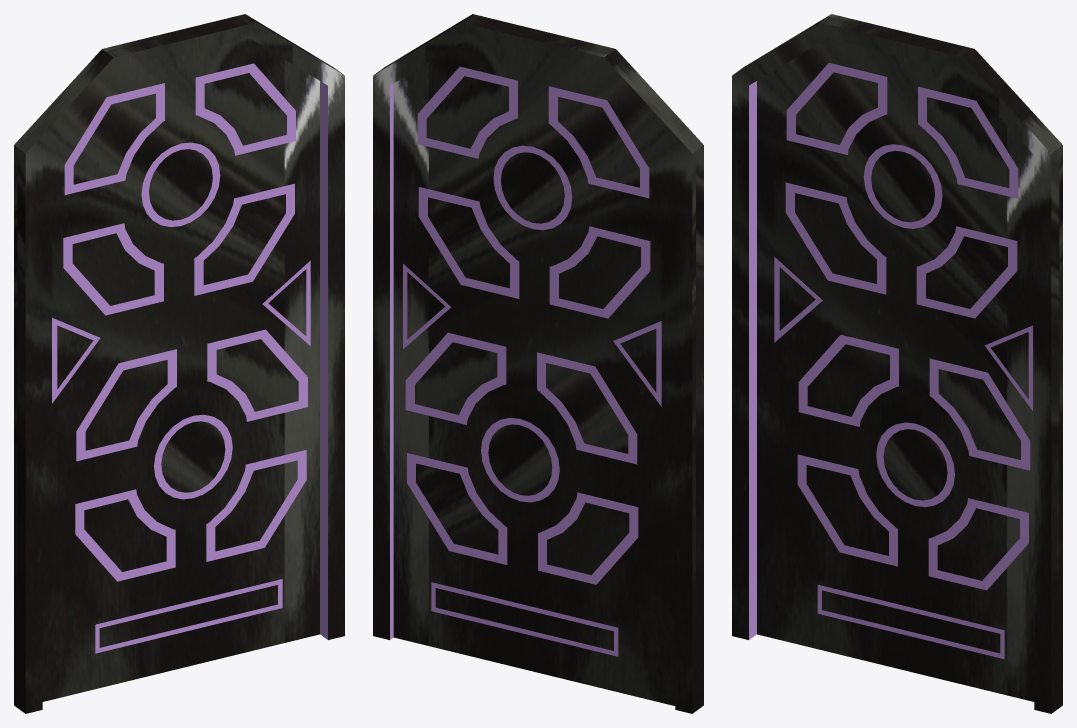
File: matrix_style_door.glb
3 views of the same model, side by side, from view 1: azimuth 30°, elevation 25°; view 2: azimuth 150°, elevation 25°; view 3: azimuth 330°, elevation 25° (orthographic).
Parts seen in each view (by area): view 1: Material2 (×2); view 2: Material2 (×2); view 3: Material2 (×2).
Part boxes in pixels (bbox=[...]): Material2 (×2): bbox=[14, 14, 344, 713]; Material2 (×2): bbox=[373, 14, 703, 713]; Material2 (×2): bbox=[732, 14, 1062, 713].
Size of the model in its own units: 59.45 by 113 by 3.75.
3 materials, 1 textured.
